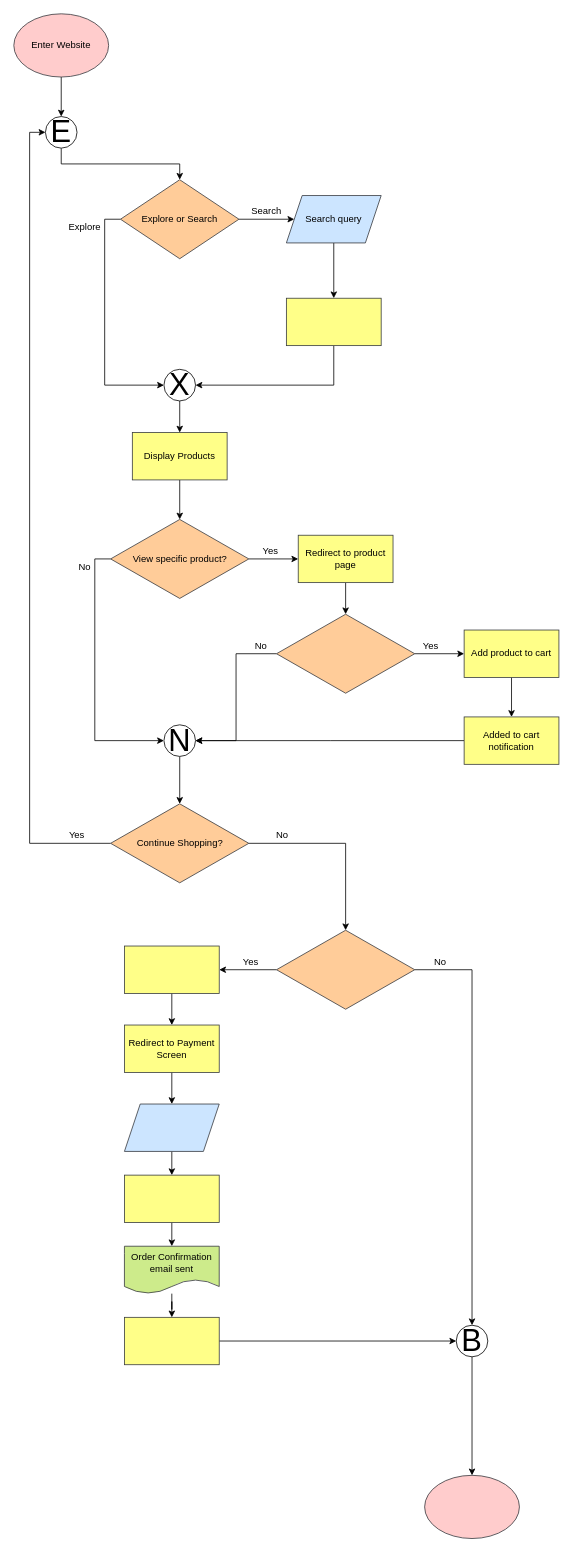
This 573x1552 diagram has some shape labels left out. Here are the shapes that lost their labels. From the top down, the centre of each, then its label:
At pixel 333 321: "Process Query".
At pixel 345 653: "Add product to cart?".
At pixel 171 969: "Redirect to View Cart Screen".
At pixel 345 969: "Continue to checkout?".
At pixel 171 1127: "Payment Info".
At pixel 171 1198: "Process payment".
At pixel 171 1341: "Redirect to order confirmation page".
At pixel 471 1507: "Leave Website".
